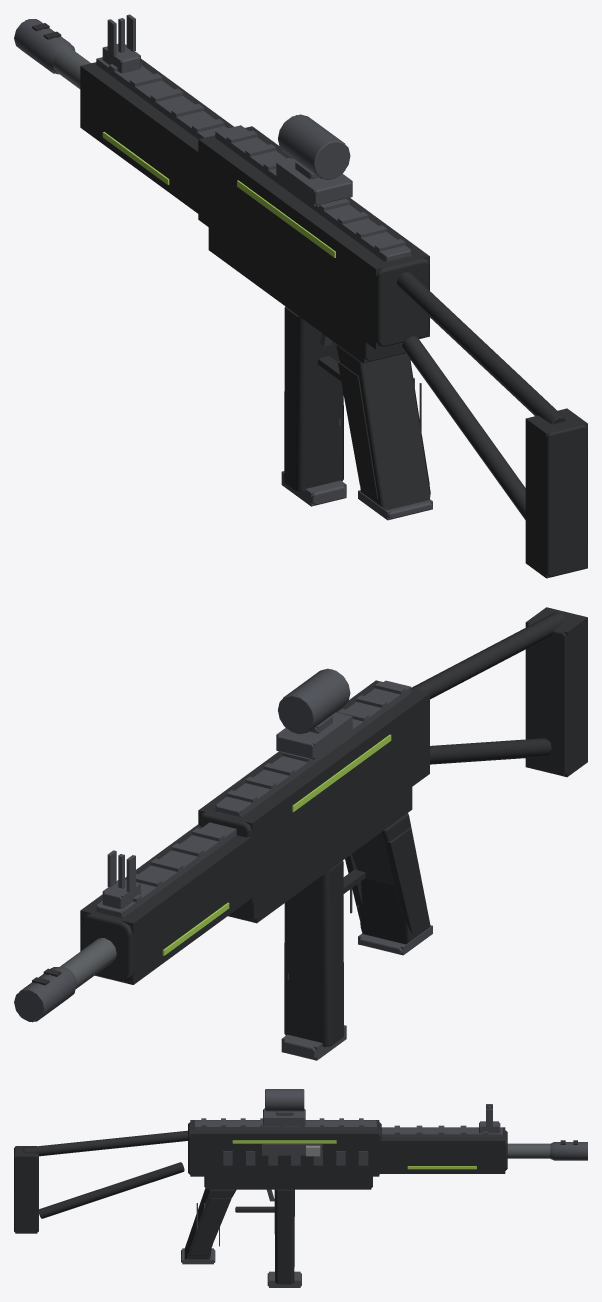
File: c_dash.glb
3 renders of one model, top to bottom at view 1: azimuth 30°, elevation 25°; view 2: azimuth 150°, elevation 25°; view 3: azimuth 270°, elevation 25°, orthographic. The views are drawn at different scales.
Visible parts, largest first — view 1: L0, L1; view 2: L0, L1; view 3: L0, L1.
Part boxes in pixels (x1,y1,x2,y2): L0: (14,15,587,577); L1: (15,14,587,578); L0: (14,608,587,1059); L1: (14,607,587,1060); L0: (14,1089,587,1286); L1: (15,1090,587,1287).
Size of the model in its own units: 0.0517 by 0.271 by 0.7288.
